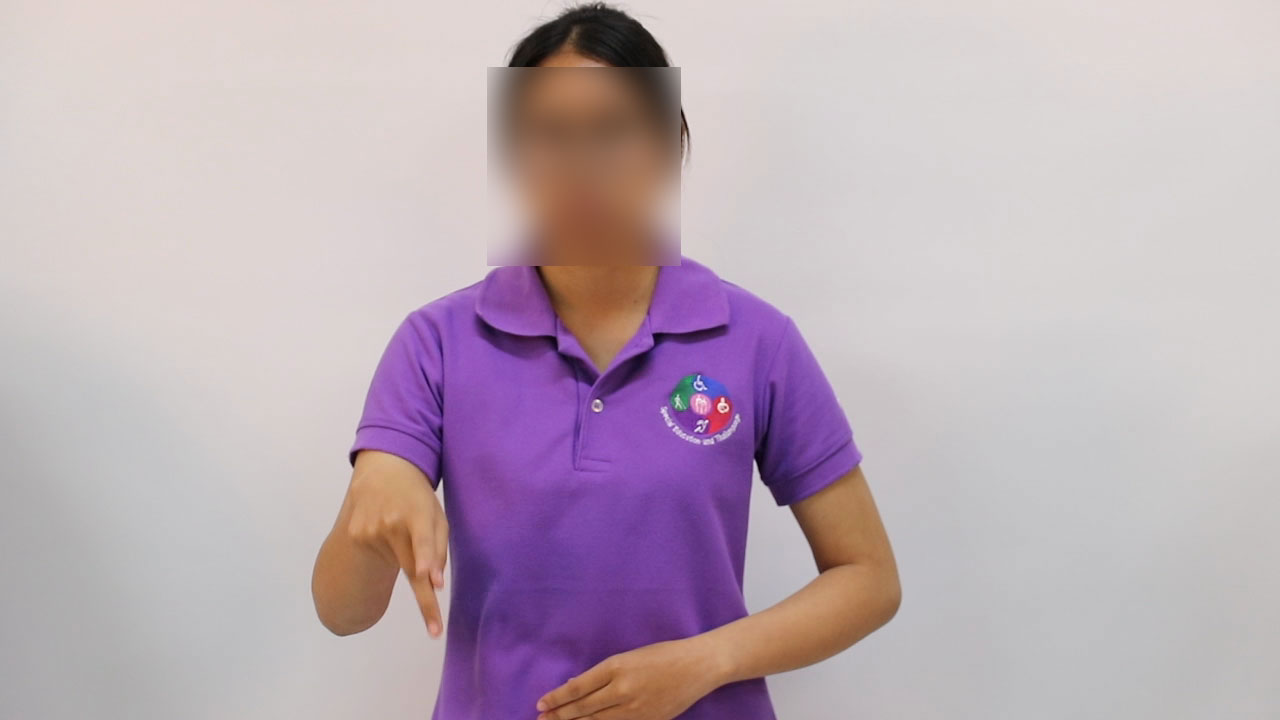por: (337, 445, 468, 651)
